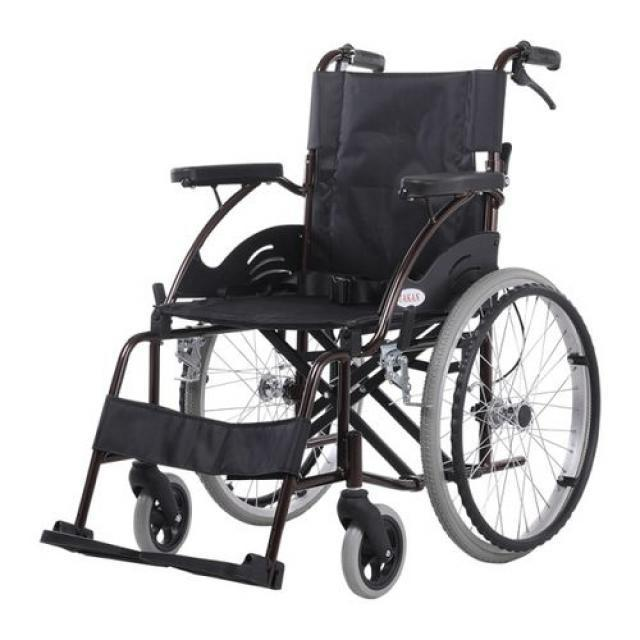wheelchairs: (42, 44, 604, 600)
